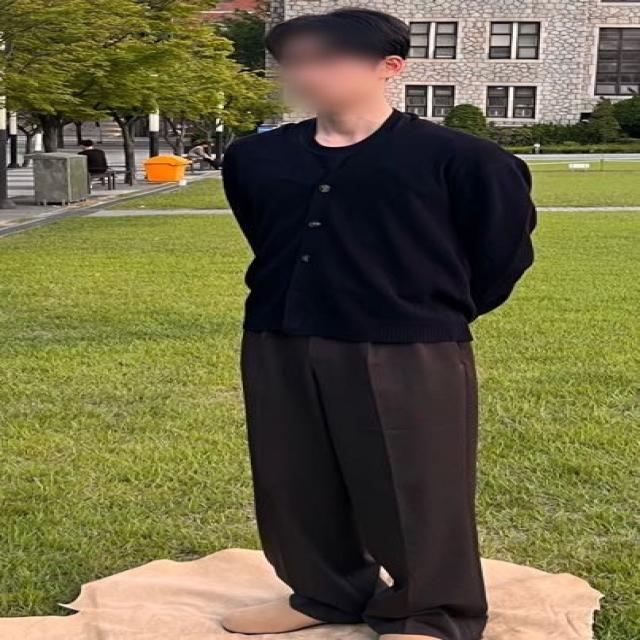cardigan: (220, 114, 532, 346)
slacks: (238, 320, 484, 632)
